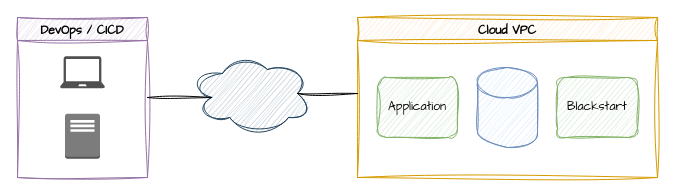
This 675x195 diagram has some shape labels left out. The centre of each missing label's shape, as x and y in pixels:
"Database" goes at pixel 507 107.
"Internet" goes at pixel 252 93.
